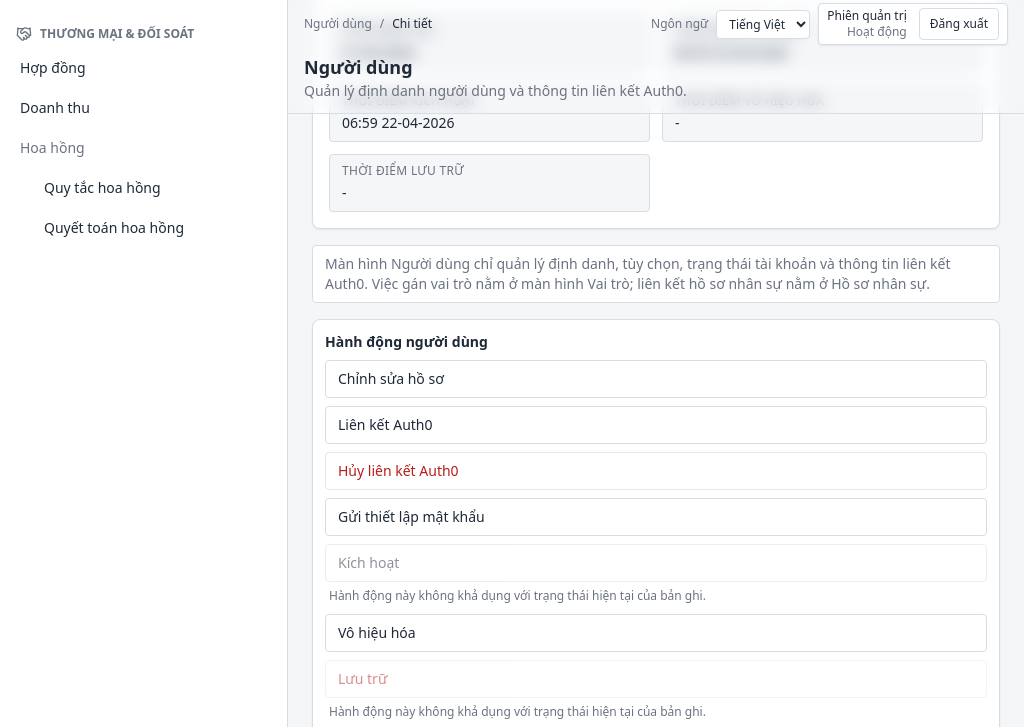
Test: user IA-1 surfaces › still surfaces backend mutation 403 when capability hints allow the action
The width and height of the screenshot is (1024, 727).
(page scrolled)
Click the button "Chỉnh sửa hồ sơ" at (391, 378), box x1=325 y1=360 x2=987 y2=398
(page scrolled)
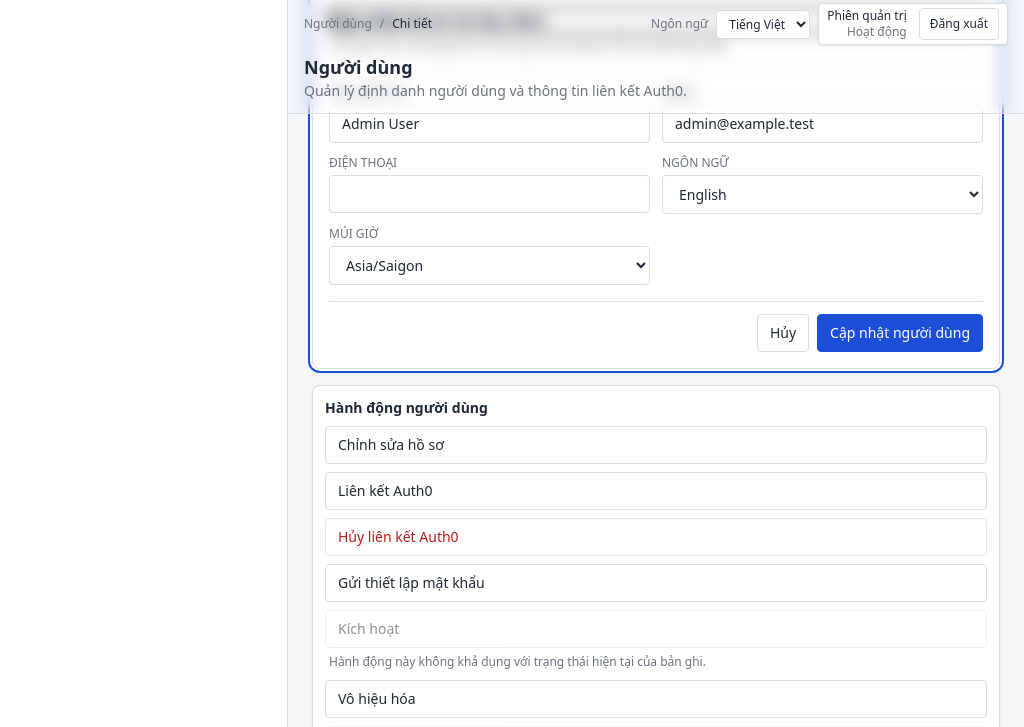
Replace the text in the field labelled "Tên hiển thị" with "Denied User" at (490, 124), box x1=329 y1=105 x2=650 y2=143
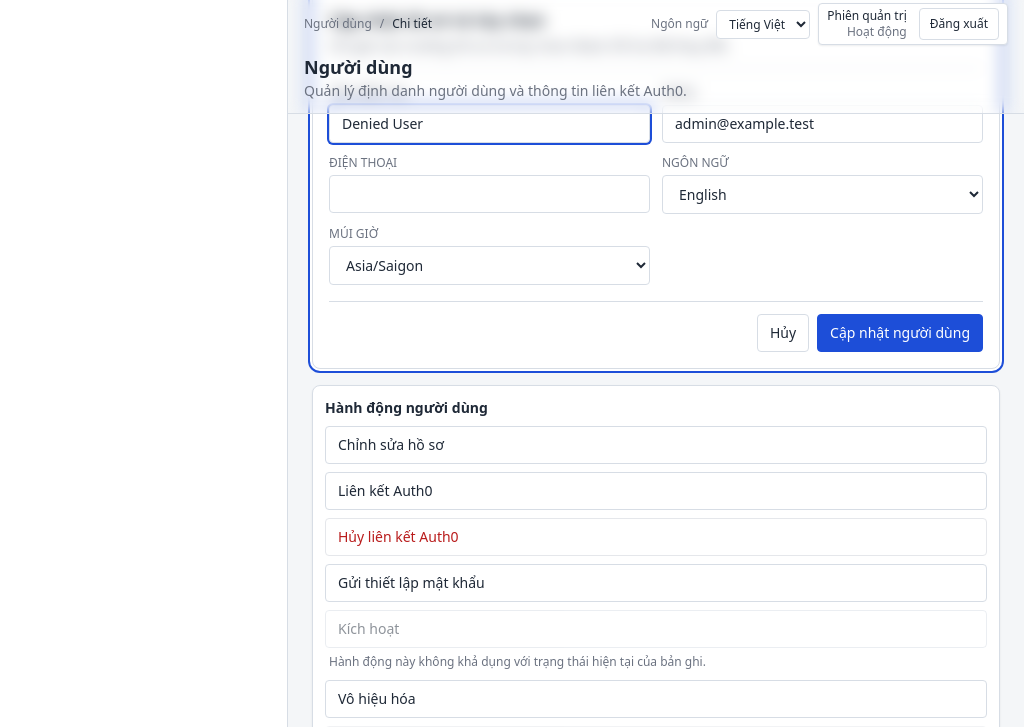
Click the button "Cập nhật người dùng" at (900, 333), box x1=817 y1=314 x2=983 y2=352
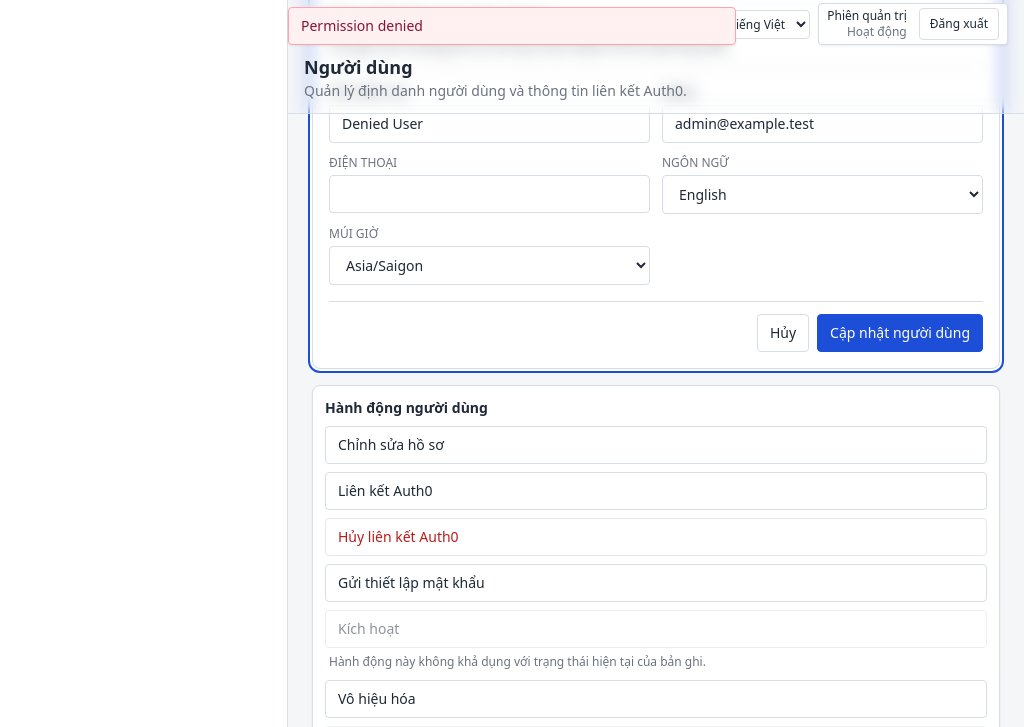
Expected: the text "Permission denied" is shown, x1=288 y1=7 x2=736 y2=45
